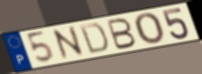5: (24, 29, 55, 65), (160, 6, 191, 40)
B: (106, 17, 138, 51)
D: (77, 22, 110, 56)
N: (50, 25, 87, 62)
O: (133, 12, 167, 46)
